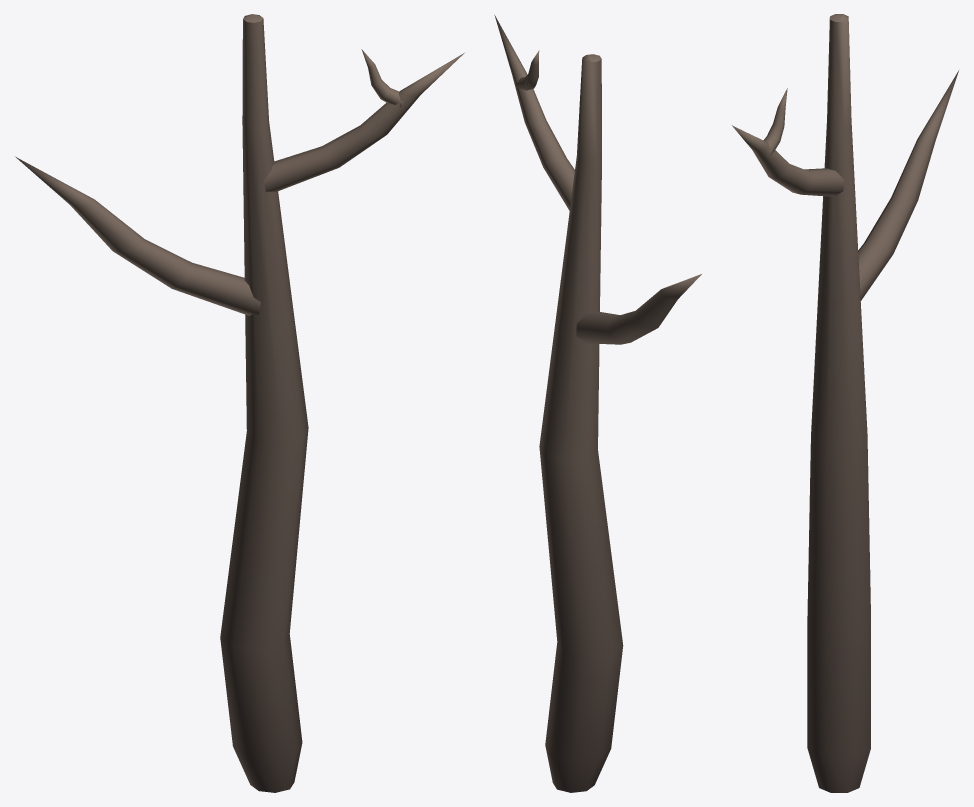
Rendered from hw-tree_dead_large.glb.
3 renders of one model, left to right at view 1: azimuth 30°, elevation 25°; view 2: azimuth 150°, elevation 25°; view 3: azimuth 270°, elevation 25°, orthographic. The views are drawn at different scales.
Parts seen in each view (by area): view 1: tree_dead_large; view 2: tree_dead_large; view 3: tree_dead_large.
Part boxes in pixels (box(x1,y1,x2,y2)): tree_dead_large: box(15, 14, 464, 792); tree_dead_large: box(494, 15, 701, 792); tree_dead_large: box(732, 14, 958, 792).
Size of the model in its own units: 2.3 by 5.07 by 1.38.
1 material, 1 textured.
